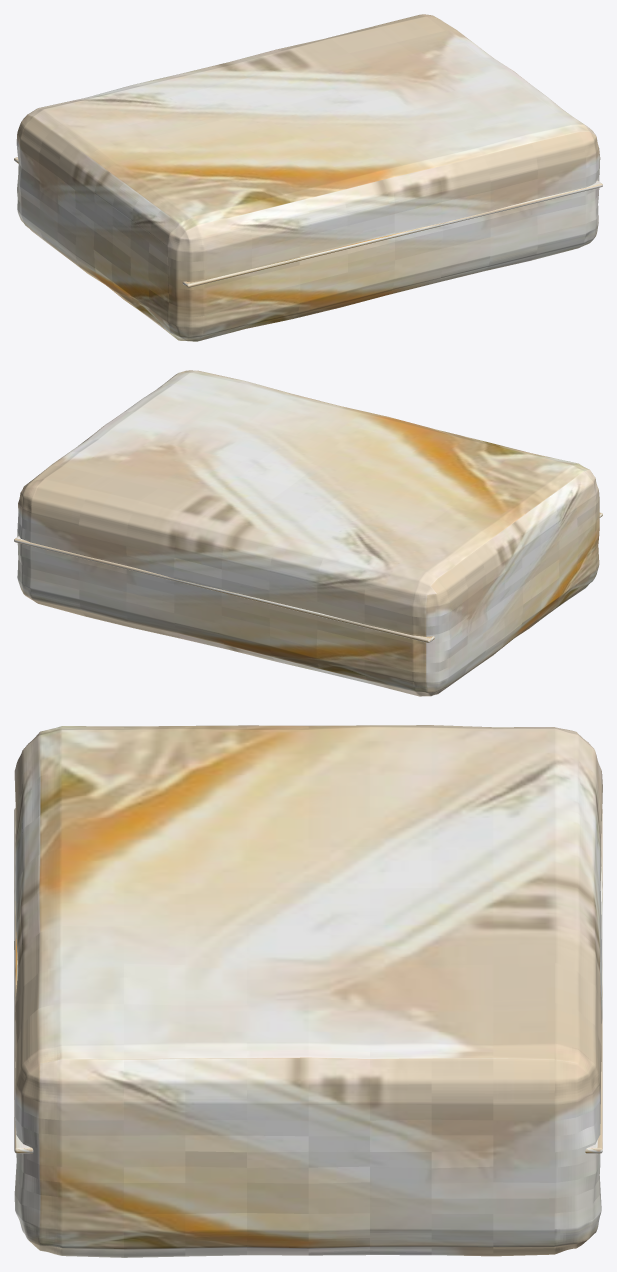
File: fridge_contents__wrapped_food.glb
The picture shows the model from 3 angles, top to bottom: view 1: azimuth 30°, elevation 25°; view 2: azimuth 150°, elevation 25°; view 3: azimuth 270°, elevation 25°; orthographic projection. The views are drawn at different scales.
Parts seen in each view (by area): view 1: filled flexible wrapper, heat sealed edge; view 2: filled flexible wrapper, heat sealed edge.001; view 3: filled flexible wrapper, heat sealed edge, heat sealed edge.001.
Part boxes in pixels (x1,y1,x2,y2): filled flexible wrapper: [16, 14, 600, 341]; heat sealed edge: [182, 180, 602, 287]; filled flexible wrapper: [17, 370, 599, 696]; heat sealed edge.001: [14, 536, 434, 642]; filled flexible wrapper: [14, 725, 602, 1257]; heat sealed edge: [14, 808, 33, 1153]; heat sealed edge.001: [585, 809, 602, 1153].
Size of the model in its own units: 0.2011 by 0.0562 by 0.1411.
1 material, 1 textured.
